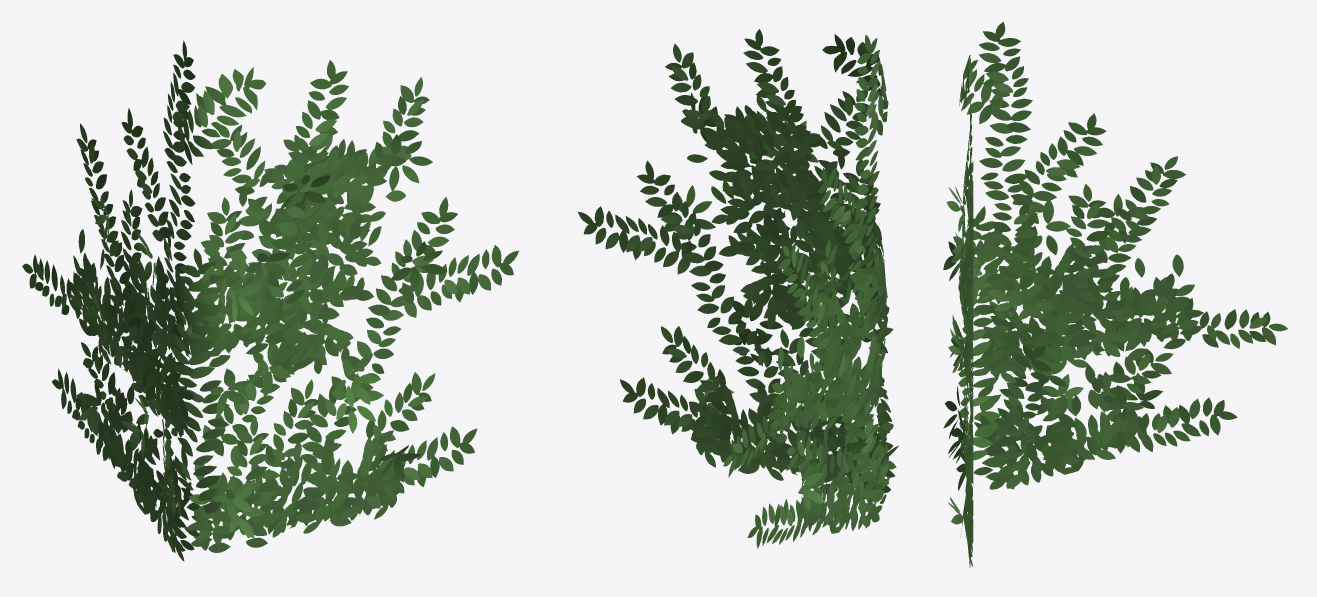
File: SM_Env_Vine_Creeping_07.fbx
3 views of the same model, side by side, from view 1: azimuth 30°, elevation 25°; view 2: azimuth 150°, elevation 25°; view 3: azimuth 270°, elevation 25° (orthographic). The views are drawn at different scales.
Parts seen in each view (by area): view 1: SM_Env_Vine_Creeping_07_LOD0; view 2: SM_Env_Vine_Creeping_07_LOD0; view 3: SM_Env_Vine_Creeping_07_LOD0.
Part boxes in pixels (x1,y1,x2,y2): SM_Env_Vine_Creeping_07_LOD0: (22, 40, 518, 560); SM_Env_Vine_Creeping_07_LOD0: (578, 29, 898, 548); SM_Env_Vine_Creeping_07_LOD0: (943, 21, 1287, 567).
Size of what is drawn, in the model's own units: 229 by 322 by 215.
